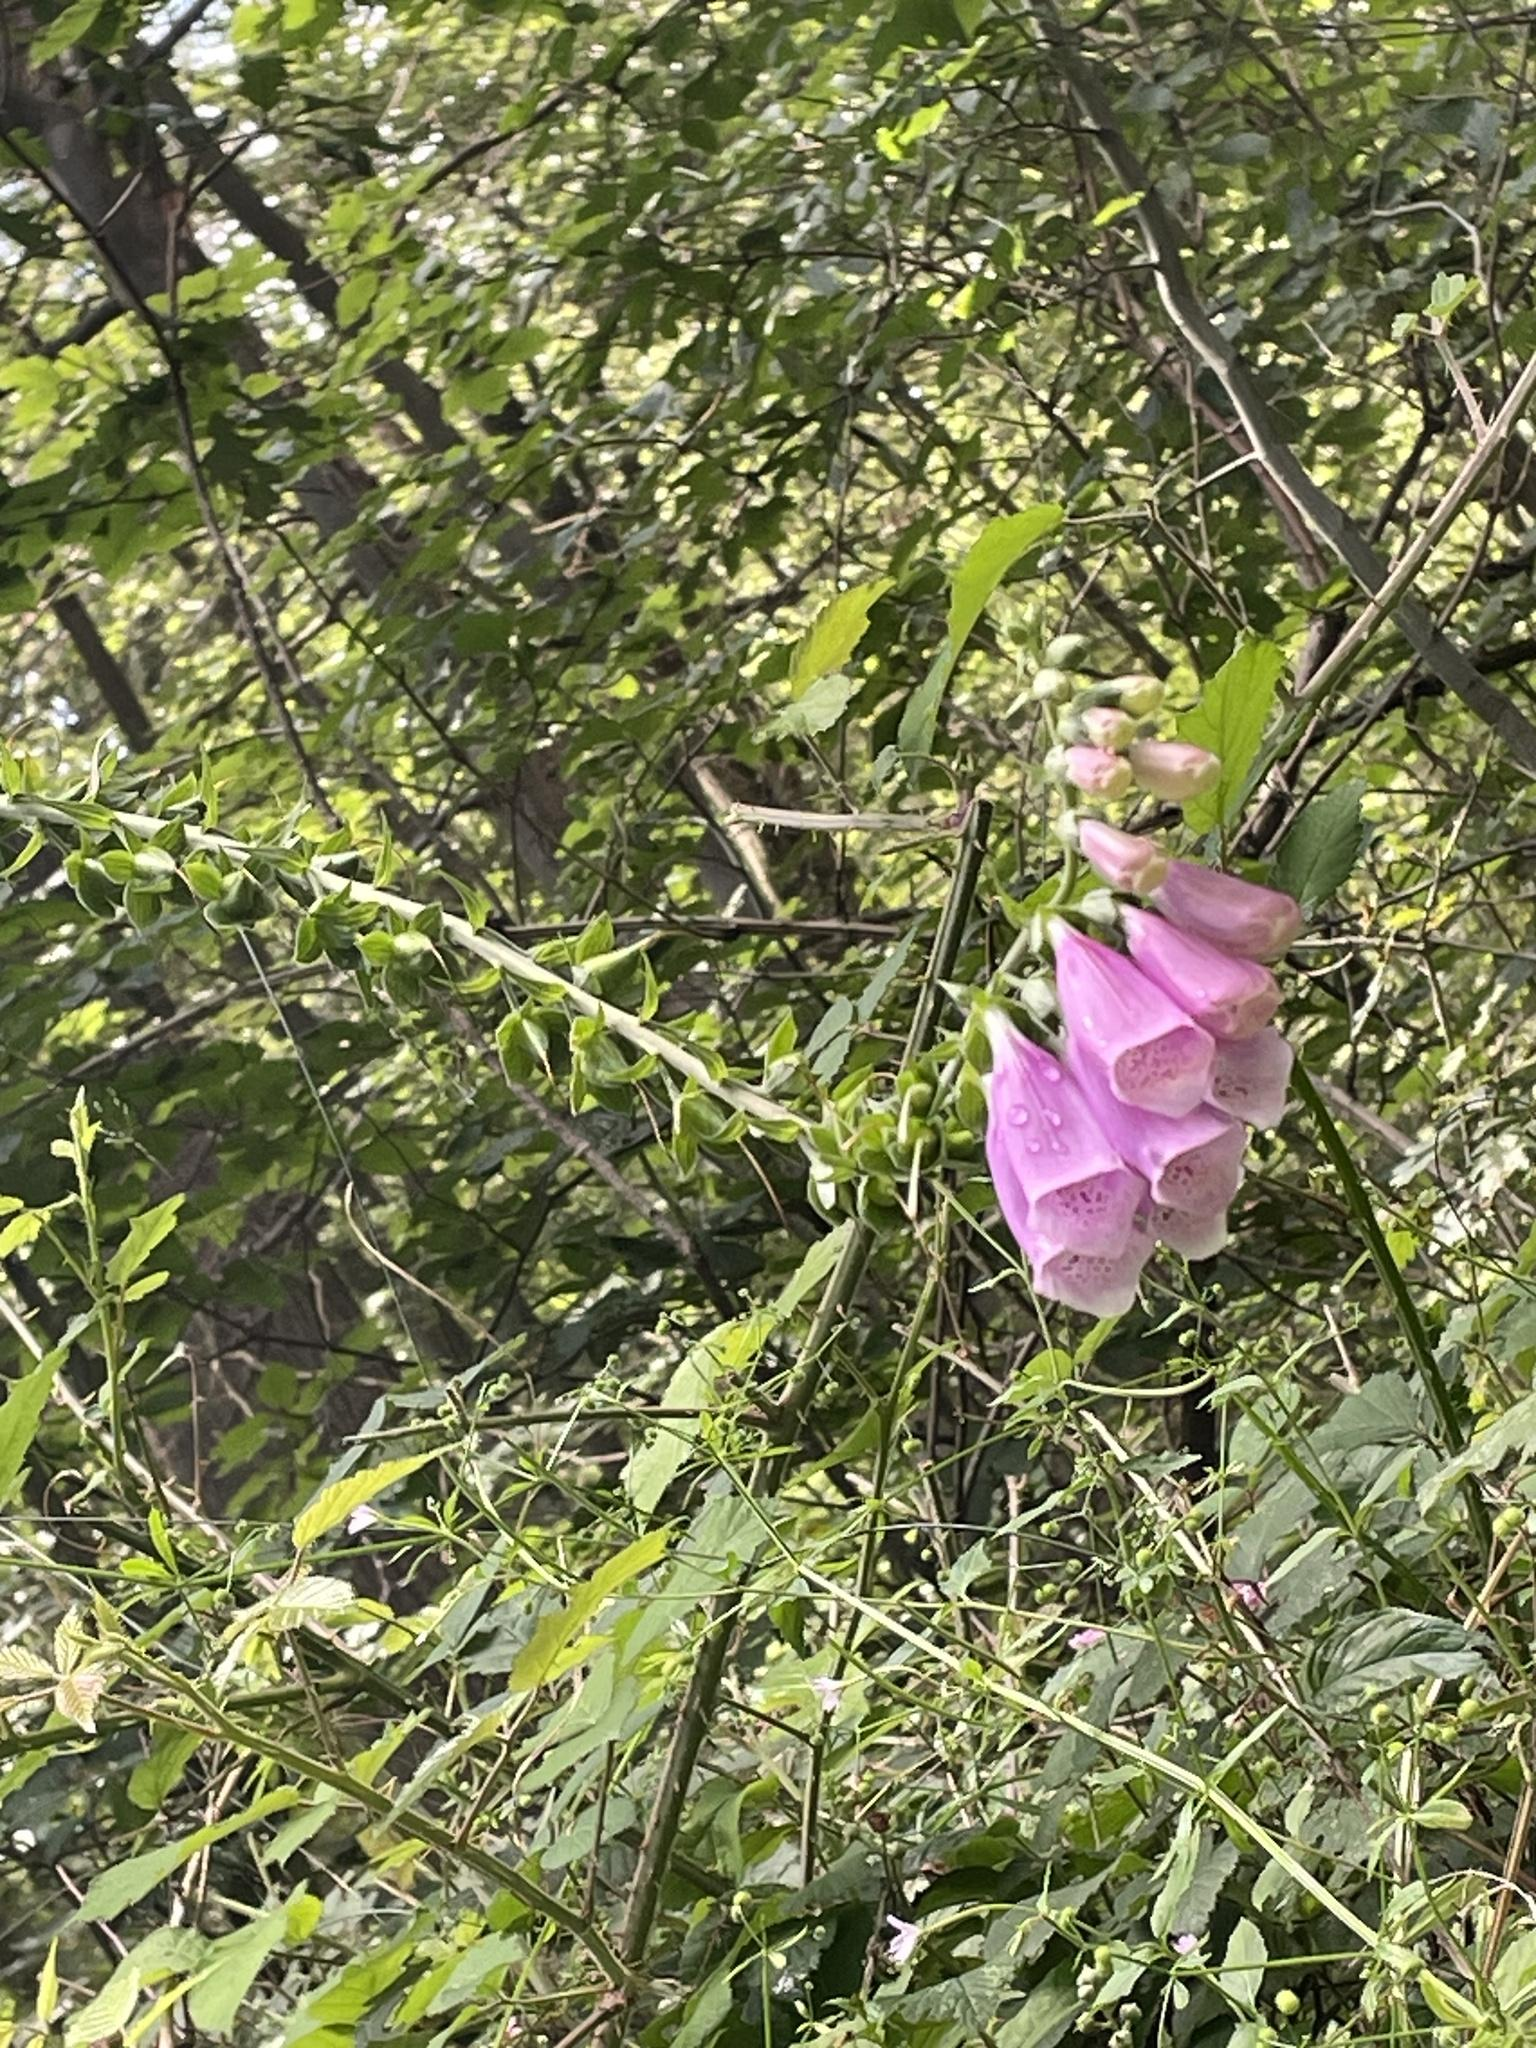Digitalis L: (803, 624, 1321, 1298)
